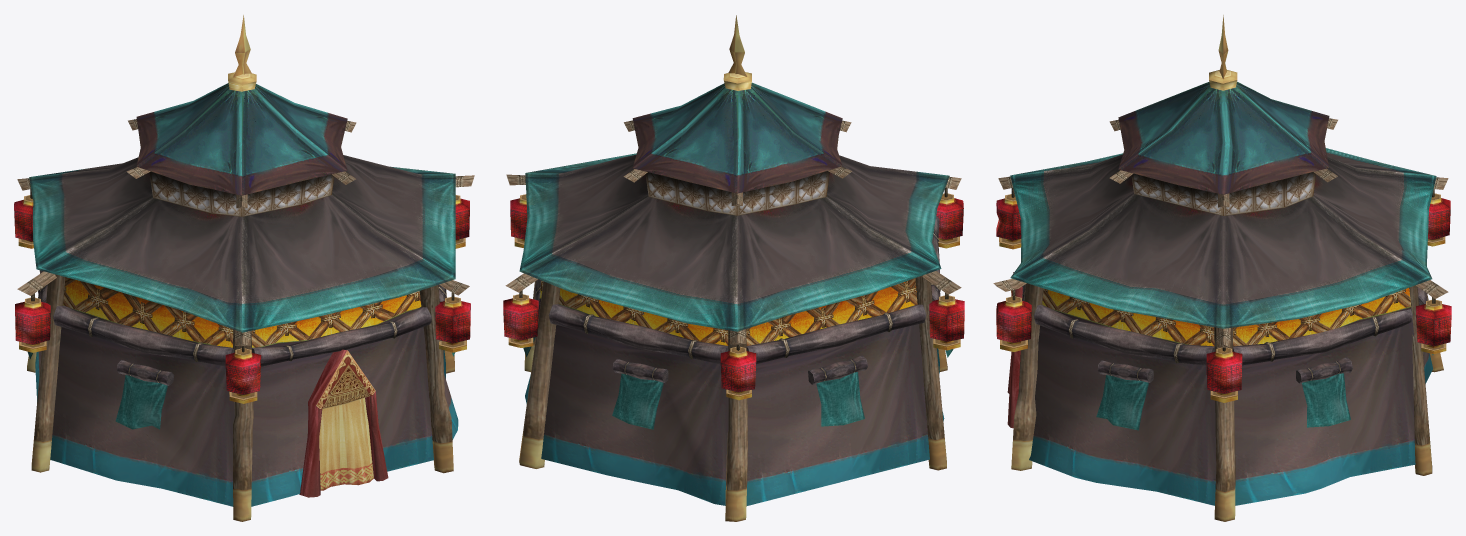
The model's file is daliang_field_b_s02b.fbx.
3 views of the same model, side by side, from view 1: azimuth 30°, elevation 25°; view 2: azimuth 150°, elevation 25°; view 3: azimuth 270°, elevation 25° (orthographic).
Parts seen in each view (by area): view 1: daliang_field_b_s02b; view 2: daliang_field_b_s02b; view 3: daliang_field_b_s02b.
Boxes of the visible parts, x1=… form: daliang_field_b_s02b: x1=14, y1=15, x2=474, y2=521; daliang_field_b_s02b: x1=503, y1=15, x2=964, y2=521; daliang_field_b_s02b: x1=993, y1=15, x2=1451, y2=521.
Size of the model in its own units: 845 by 712 by 729.
